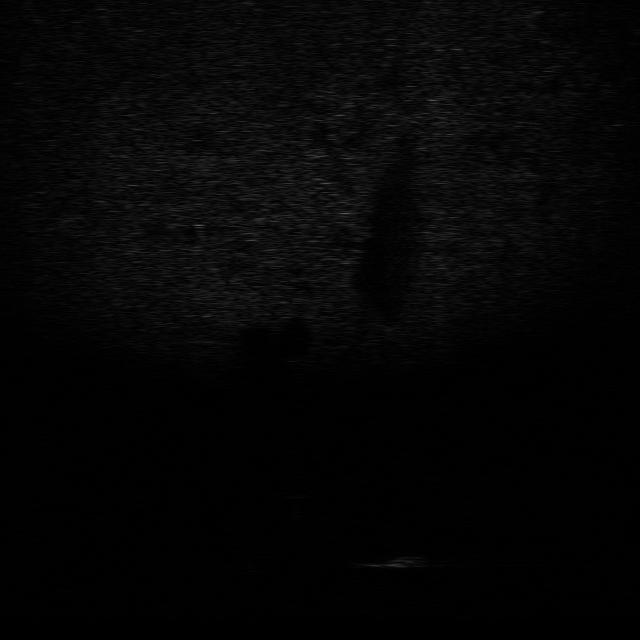ball: (274, 471, 316, 501)
metal bucket: (353, 546, 435, 574)
tyre: (240, 550, 281, 576)
